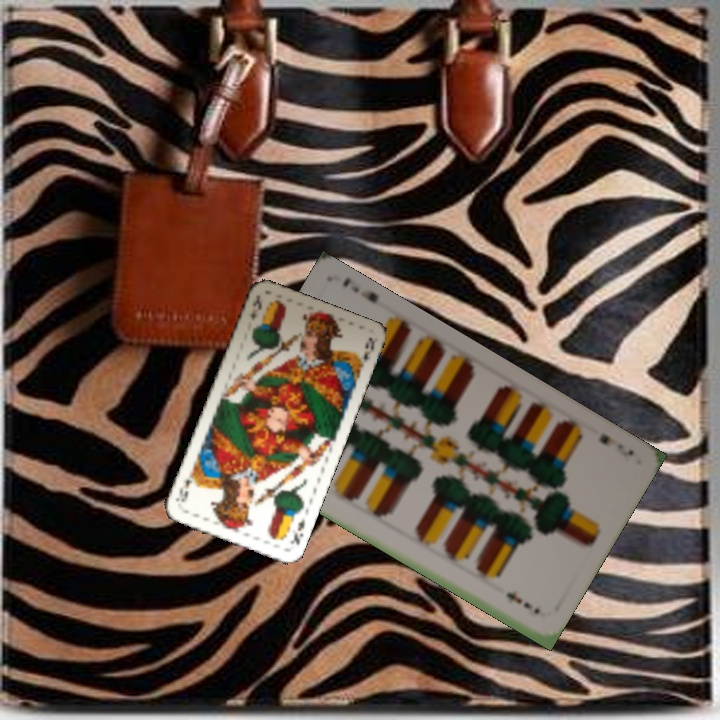E7: (595, 430, 637, 459)
EK: (286, 515, 307, 548), (246, 292, 265, 323)
